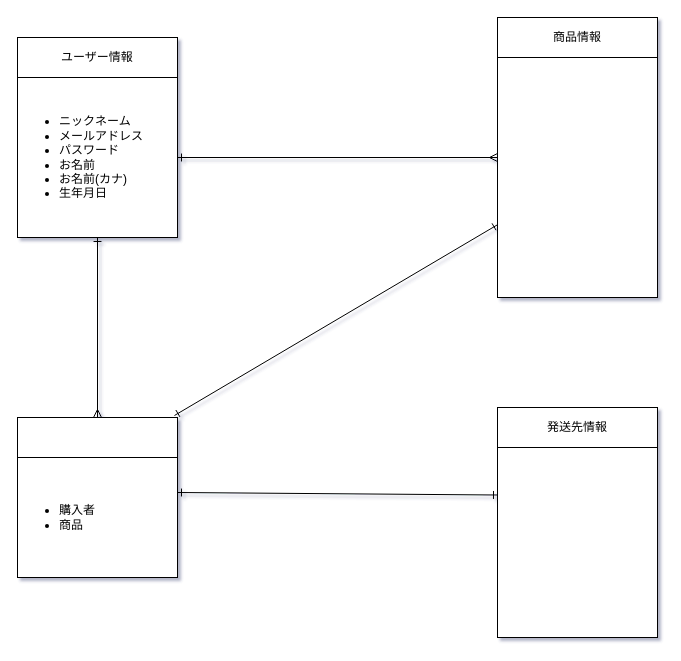
The diagram is 681 pixels wide and 661 high, and some of its shapes have lost their labels. The centre of each missing label's shape, as x and y in pixels:
"画像 商品名 説明 出品者 価格 カテゴリ 状態 配送料負担 地域 配送日数" goes at (577,177).
"購入記録" goes at (97,437).
"郵便番号 都道府県 市区町村 番地 建物名 電話番号" goes at (577,542).
